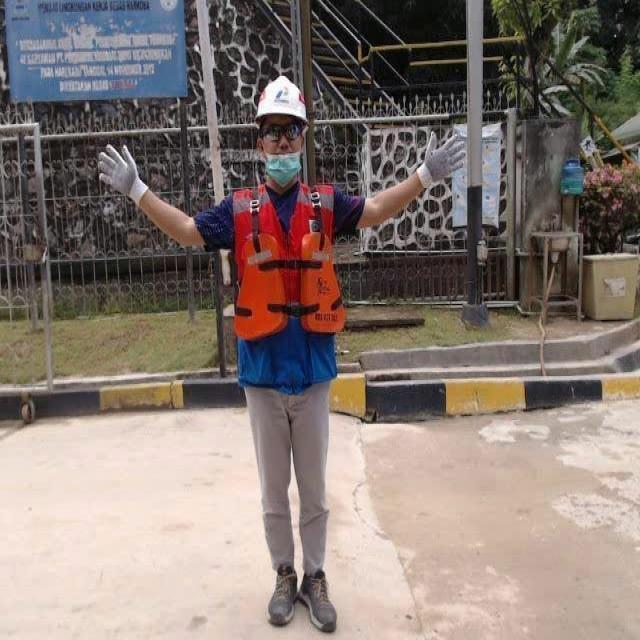vest: (230, 183, 349, 387)
